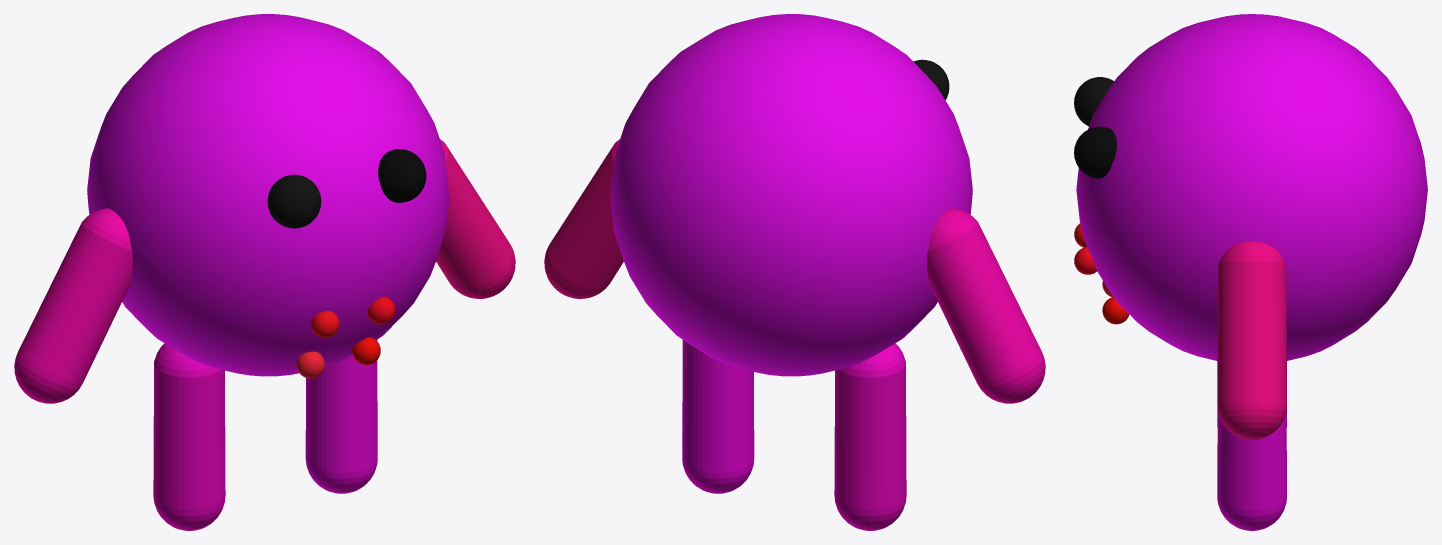
The model's file is челсоскиб.fbx.
3 views of the same model, side by side, from view 1: azimuth 30°, elevation 25°; view 2: azimuth 150°, elevation 25°; view 3: azimuth 270°, elevation 25° (orthographic). The views are drawn at different scales.
Visible parts, largest first — view 1: Sphere, Sphere.004, Sphere.002, Sphere.001, Sphere.003, Sphere.005, Sphere.006, Sphere.009, Sphere.007, Sphere.010, Sphere.008; view 2: Sphere, Sphere.004, Sphere.002, Sphere.001, Sphere.003, Sphere.005; view 3: Sphere, Sphere.003, Sphere.001, Sphere.006, Sphere.005, Sphere.010, Sphere.008.
Part boxes in pixels (x1,y1,x2,y2): Sphere: (87,14,449,376); Sphere.004: (14,208,132,403); Sphere.002: (153,343,225,530); Sphere.001: (305,340,377,493); Sphere.003: (436,139,515,298); Sphere.005: (267,174,321,228); Sphere.006: (378,149,426,202); Sphere.009: (296,351,324,378); Sphere.007: (311,311,339,338); Sphere.010: (352,337,380,364); Sphere.008: (367,296,395,324); Sphere: (610,14,972,376); Sphere.004: (927,208,1045,403); Sphere.002: (834,343,906,530); Sphere.001: (682,340,754,493); Sphere.003: (544,139,623,298); Sphere.005: (913,59,949,99); Sphere: (1076,14,1427,360); Sphere.003: (1217,241,1286,439); Sphere.001: (1217,411,1286,530); Sphere.006: (1074,126,1116,178); Sphere.005: (1074,77,1113,126); Sphere.010: (1102,297,1129,324); Sphere.008: (1074,247,1097,274).
Bounding box in the file's own units: 313 × 290 × 201.
